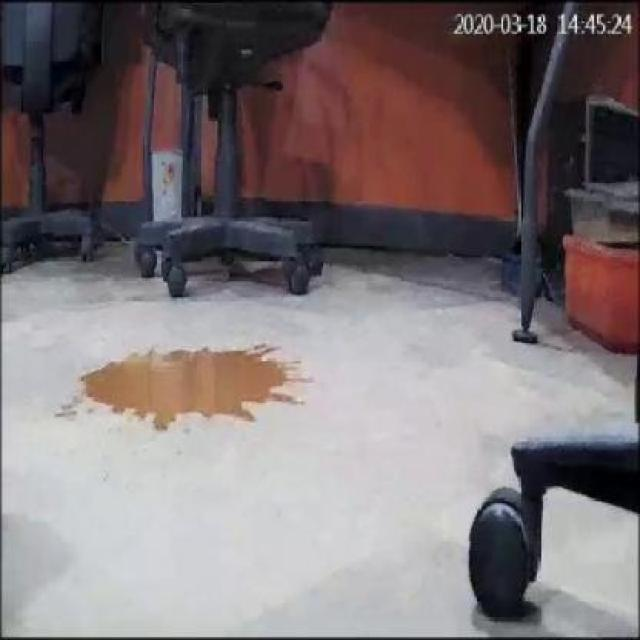spillage: (78, 347, 297, 431)
